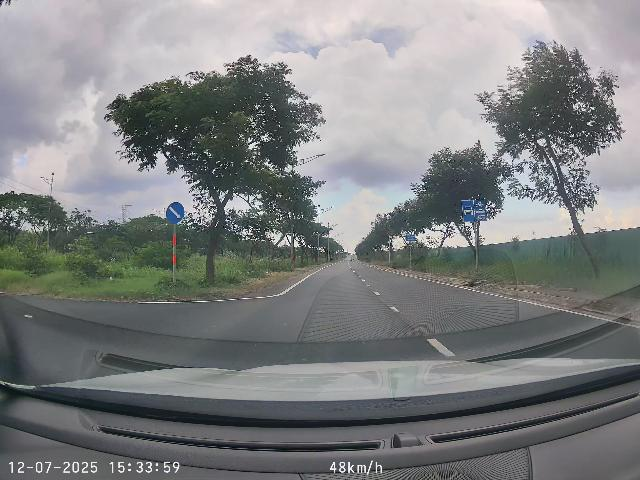302a-huong-phai-di-vong-chuong-ngai-vat-1: (166, 202, 184, 224)
